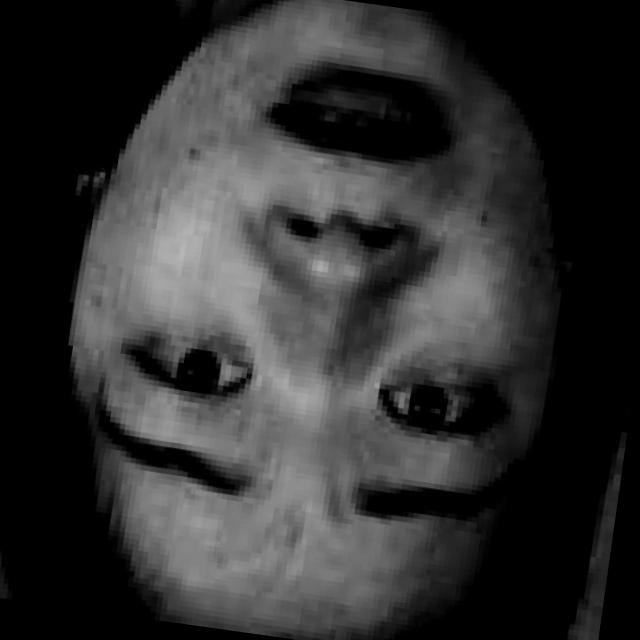fear: (41, 0, 596, 619)
